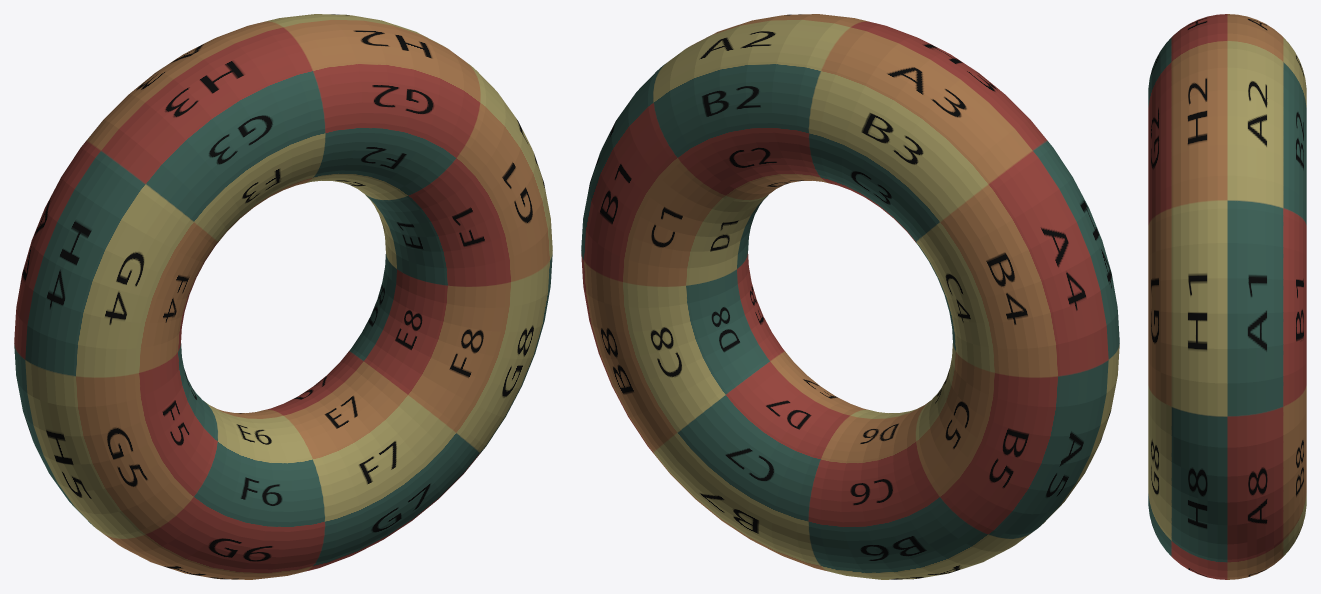
The model's file is texture_torus_R3_r10.glb.
The picture shows the model from 3 angles, left to right: view 1: azimuth 30°, elevation 25°; view 2: azimuth 150°, elevation 25°; view 3: azimuth 270°, elevation 25°; orthographic projection. The views are drawn at different scales.
Parts seen in each view (by area): view 1: world; view 2: world; view 3: world.
Part boxes in pixels (x1,y1,x2,y2): world: (14,14,552,579); world: (581,14,1119,579); world: (1148,14,1306,579).
Bounding box in the file's own units: 16.67 × 16.63 × 4.66.
1 material, 1 textured.
